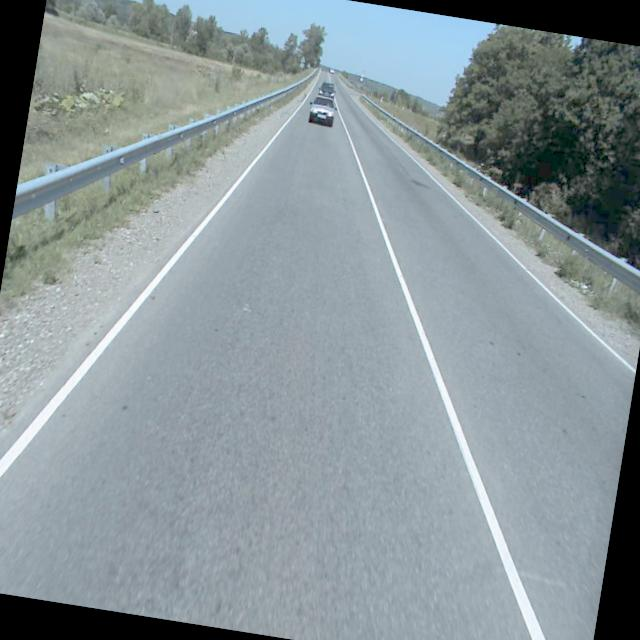road: (0, 70, 636, 640)
